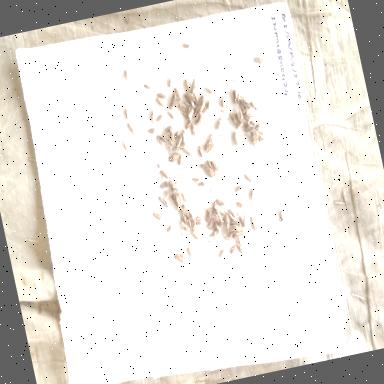pbw: (249, 213, 259, 233), (248, 130, 258, 150), (212, 116, 224, 132), (231, 129, 241, 148), (125, 120, 136, 137), (192, 113, 205, 127), (173, 252, 186, 266), (122, 67, 132, 85), (248, 188, 258, 206), (240, 210, 250, 228), (231, 82, 241, 100), (173, 193, 182, 212), (172, 134, 184, 148), (216, 246, 228, 260), (243, 170, 253, 186), (210, 158, 220, 174), (188, 76, 198, 92), (203, 206, 213, 222), (276, 208, 286, 224), (218, 92, 228, 108), (204, 217, 216, 230), (157, 194, 168, 208), (167, 126, 176, 143), (186, 244, 195, 260), (151, 210, 163, 222), (235, 238, 244, 254), (196, 100, 207, 113), (236, 198, 246, 212), (181, 38, 191, 52), (180, 220, 190, 234), (181, 146, 192, 158), (199, 160, 210, 172), (228, 243, 238, 256), (156, 97, 166, 110), (200, 102, 210, 115), (159, 168, 169, 181), (164, 222, 174, 235), (186, 106, 196, 119), (236, 107, 244, 123), (223, 220, 231, 236), (216, 209, 224, 225), (230, 88, 238, 104), (176, 191, 184, 207), (183, 76, 191, 92), (173, 86, 182, 100), (196, 94, 207, 105), (234, 120, 245, 131), (196, 179, 207, 190), (146, 125, 157, 136), (209, 211, 220, 222), (124, 106, 132, 121), (232, 184, 244, 194), (244, 106, 256, 116), (206, 98, 214, 113), (156, 88, 166, 100), (190, 230, 200, 242), (170, 180, 182, 190), (176, 102, 186, 114), (186, 90, 196, 102), (191, 106, 201, 118), (222, 232, 234, 242), (166, 109, 176, 121), (183, 120, 193, 132), (204, 83, 214, 95), (148, 107, 156, 122), (192, 89, 200, 104), (166, 75, 175, 88), (209, 132, 216, 148), (156, 134, 164, 148), (187, 210, 195, 224), (189, 122, 196, 138), (176, 153, 184, 167), (214, 222, 222, 236), (210, 200, 218, 214), (253, 130, 261, 144), (180, 216, 187, 232), (234, 92, 242, 106), (196, 144, 204, 158), (180, 210, 188, 224), (121, 138, 129, 152), (208, 164, 215, 180), (154, 113, 164, 124), (202, 139, 212, 150), (159, 180, 170, 190), (240, 95, 250, 106), (210, 227, 220, 238), (164, 123, 174, 134), (230, 113, 237, 128), (180, 129, 187, 144), (167, 178, 174, 193), (250, 99, 258, 112), (204, 167, 212, 180), (234, 112, 242, 125), (190, 220, 198, 233), (182, 98, 192, 108), (252, 122, 262, 132), (204, 144, 214, 154), (228, 222, 238, 232), (142, 82, 152, 92), (172, 129, 182, 139), (216, 218, 226, 228), (256, 128, 266, 138), (216, 197, 225, 208), (236, 92, 247, 101), (242, 125, 253, 134), (181, 110, 189, 122), (228, 206, 236, 218), (182, 92, 190, 104), (166, 134, 174, 146), (176, 141, 188, 149), (232, 220, 242, 229), (171, 144, 181, 153), (191, 174, 200, 184), (236, 228, 247, 236), (224, 212, 230, 226), (189, 98, 196, 110), (238, 214, 244, 228), (186, 214, 192, 228), (194, 213, 203, 222), (178, 204, 187, 213), (161, 190, 170, 199), (174, 98, 184, 106), (258, 134, 266, 144), (246, 115, 256, 123), (170, 152, 180, 160), (228, 212, 236, 222), (206, 158, 213, 169), (182, 191, 188, 203), (214, 203, 222, 212), (166, 142, 172, 154), (160, 135, 168, 144), (249, 116, 256, 126), (168, 156, 176, 164), (195, 219, 203, 226)
